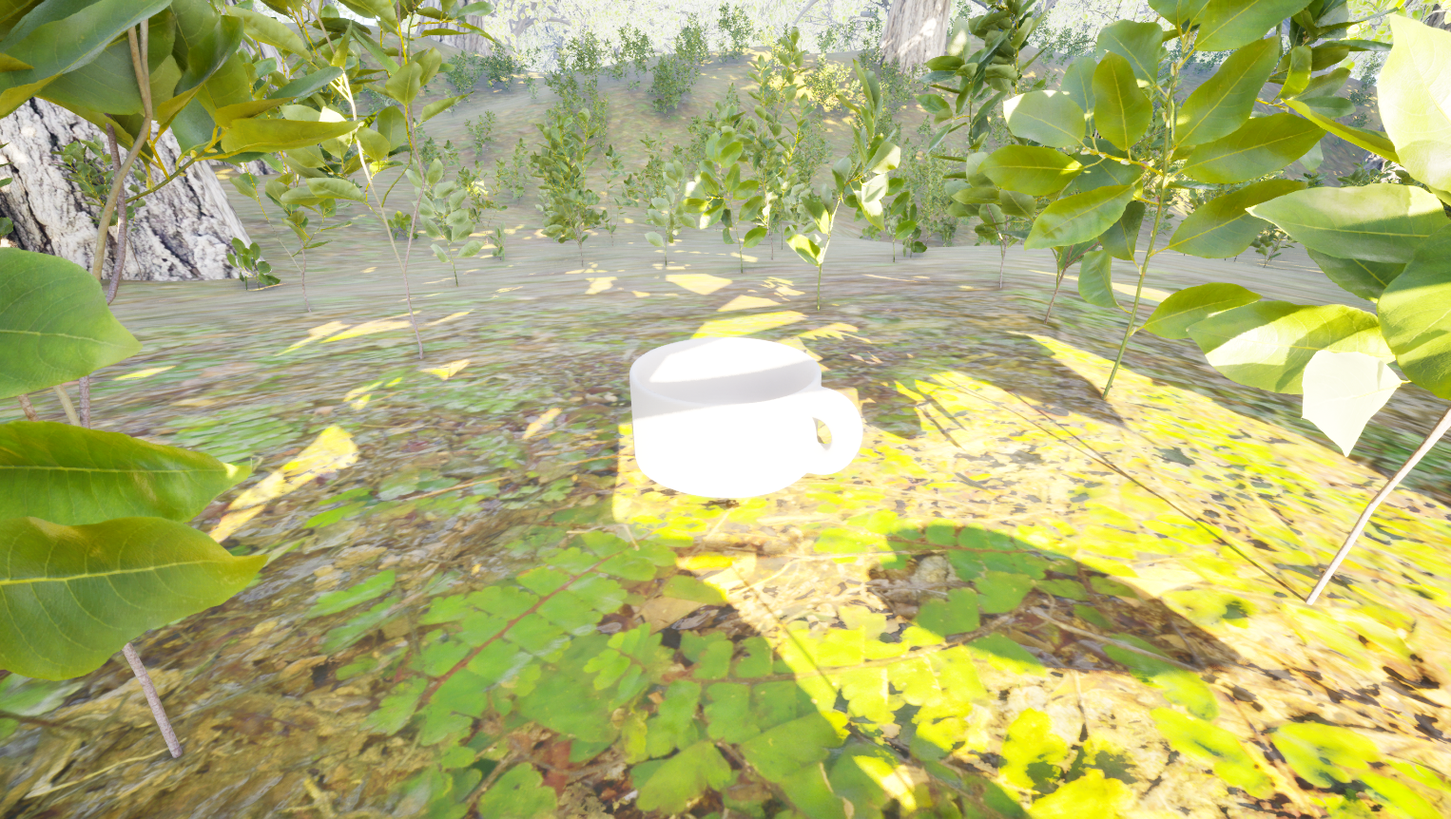Teacup: (604, 328, 883, 540)
